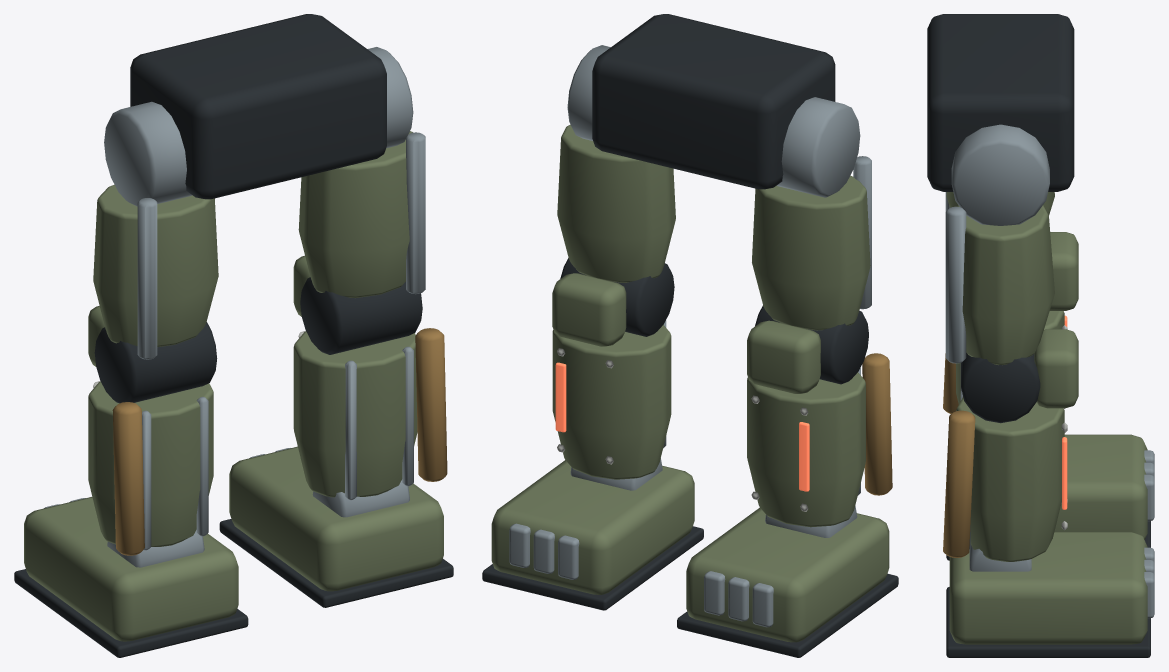
Rendered from legs_09.glb.
3 views of the same model, side by side, from view 1: azimuth 30°, elevation 25°; view 2: azimuth 150°, elevation 25°; view 3: azimuth 270°, elevation 25° (orthographic). The views are drawn at different scales.
Visible parts, largest first — view 1: RightShin.008_Geometry, LeftShin.008_Geometry, Pelvic carrier.008, LeftThigh.008_Geometry, RightThigh.008_Geometry; view 2: LeftShin.008_Geometry, RightShin.008_Geometry, Pelvic carrier.008, LeftThigh.008_Geometry, RightThigh.008_Geometry; view 3: RightShin.008_Geometry, RightThigh.008_Geometry, Pelvic carrier.008, LeftShin.008_Geometry, LeftThigh.008_Geometry.
Boxes of the visible parts, <box> form: RightShin.008_Geometry: <box>219,255,453,607</box>; LeftShin.008_Geometry: <box>14,306,248,657</box>; Pelvic carrier.008: <box>130,14,386,199</box>; LeftThigh.008_Geometry: <box>93,101,218,359</box>; RightThigh.008_Geometry: <box>298,47,425,298</box>; LeftShin.008_Geometry: <box>677,305,898,657</box>; RightShin.008_Geometry: <box>482,258,703,610</box>; Pelvic carrier.008: <box>592,14,835,189</box>; LeftThigh.008_Geometry: <box>752,97,871,330</box>; RightThigh.008_Geometry: <box>557,45,675,282</box>; RightShin.008_Geometry: <box>943,329,1154,657</box>; RightThigh.008_Geometry: <box>945,124,1054,365</box>; Pelvic carrier.008: <box>927,14,1074,191</box>; LeftShin.008_Geometry: <box>943,232,1154,560</box>; LeftThigh.008_Geometry: <box>945,192,1054,215</box>.
Bounding box in the file's own units: 0.59 × 0.908 × 0.356.
